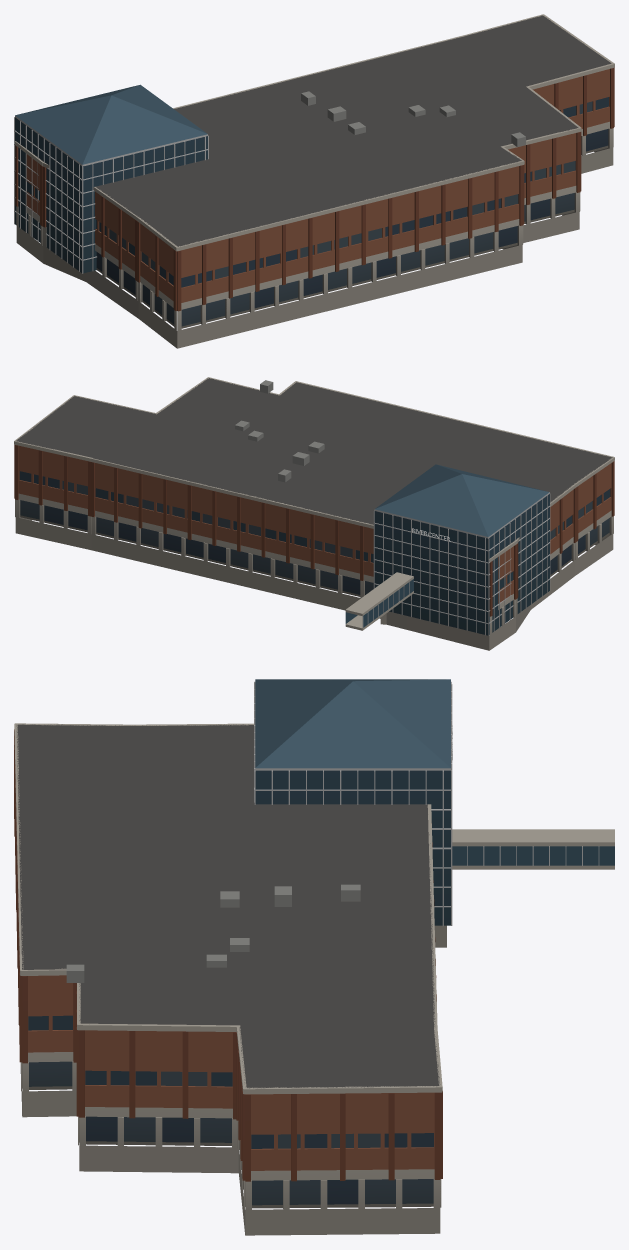
File: rivercenter.glb
The picture shows the model from 3 angles, top to bottom: view 1: azimuth 30°, elevation 25°; view 2: azimuth 150°, elevation 25°; view 3: azimuth 270°, elevation 25°; orthographic projection. The views are drawn at different scales.
Visible parts, largest first — view 1: rivercenter_lod0; view 2: rivercenter_lod0; view 3: rivercenter_lod0.
Boxes of the visible parts, x1=… form: rivercenter_lod0: x1=14, y1=14, x2=614, y2=348; rivercenter_lod0: x1=14, y1=377, x2=614, y2=650; rivercenter_lod0: x1=14, y1=679, x2=614, y2=1235.
Size of what is drawn, in the model's own units: 125 by 35 by 84.35.
